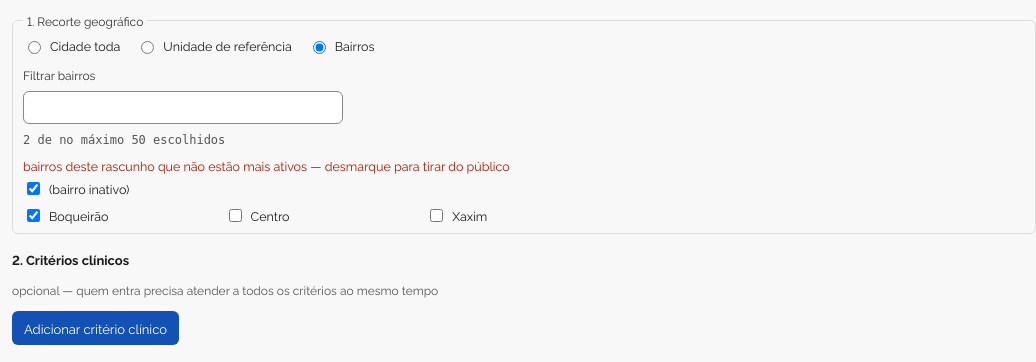
Test: AudienceBuilder — recorte › rascunho com bairro fora da lista: aparece e sai ao desmarcar
Click the checkbox labelled "(bairro inativo)" at (34, 189), box [27,182,40,195]
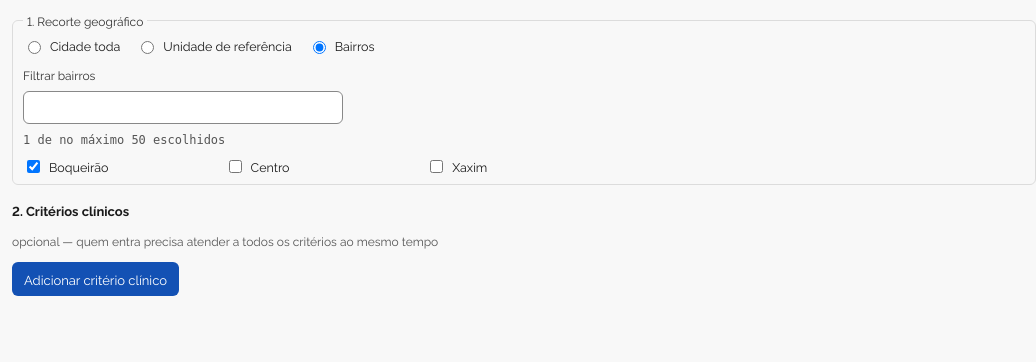
Result: the label "(bairro inativo)" is gone
